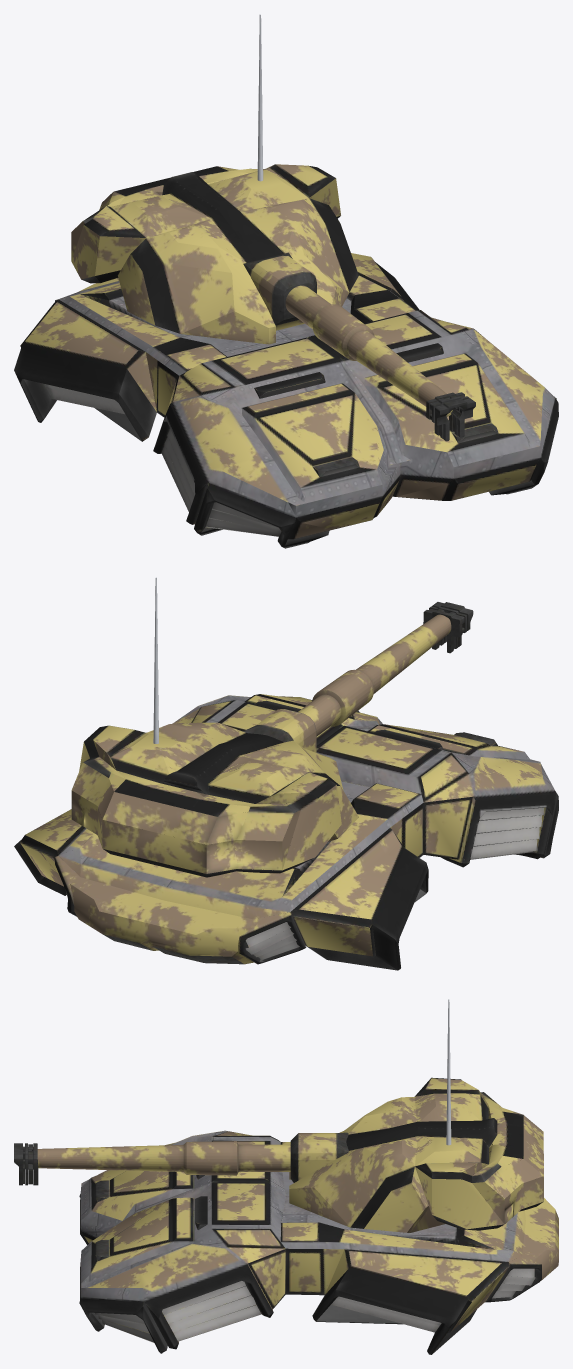
Rendered from Hovertank.glb.
3 renders of one model, top to bottom at view 1: azimuth 30°, elevation 25°; view 2: azimuth 150°, elevation 25°; view 3: azimuth 270°, elevation 25°, orthographic. The views are drawn at different scales.
Parts seen in each view (by area): view 1: HoverTank_Baked; view 2: HoverTank_Baked; view 3: HoverTank_Baked.
Part boxes in pixels (x1,y1,x2,y2): HoverTank_Baked: (14,14,558,548); HoverTank_Baked: (14,577,558,970); HoverTank_Baked: (14,999,558,1354).
Size of the model in its own units: 8.5 by 7.39 by 12.04.
1 material, 1 textured.
